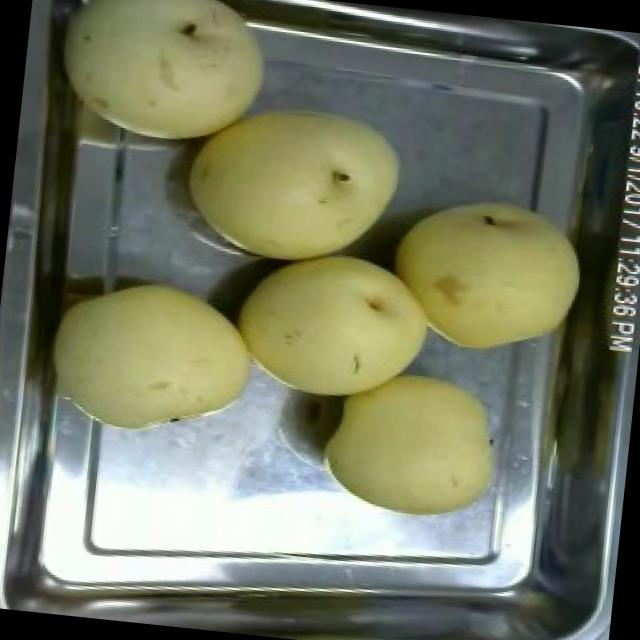Fruit: (174, 86, 420, 280), (36, 260, 272, 454), (219, 233, 446, 416), (379, 182, 597, 372), (45, 0, 285, 160), (310, 351, 517, 532)
